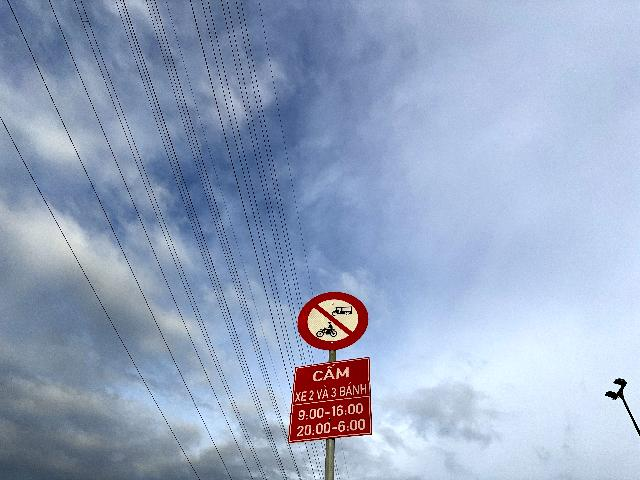cam-xe-2-banh-3-banh: (297, 292, 369, 351)
